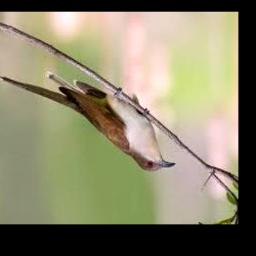Cuckoo: (0, 71, 176, 171)
